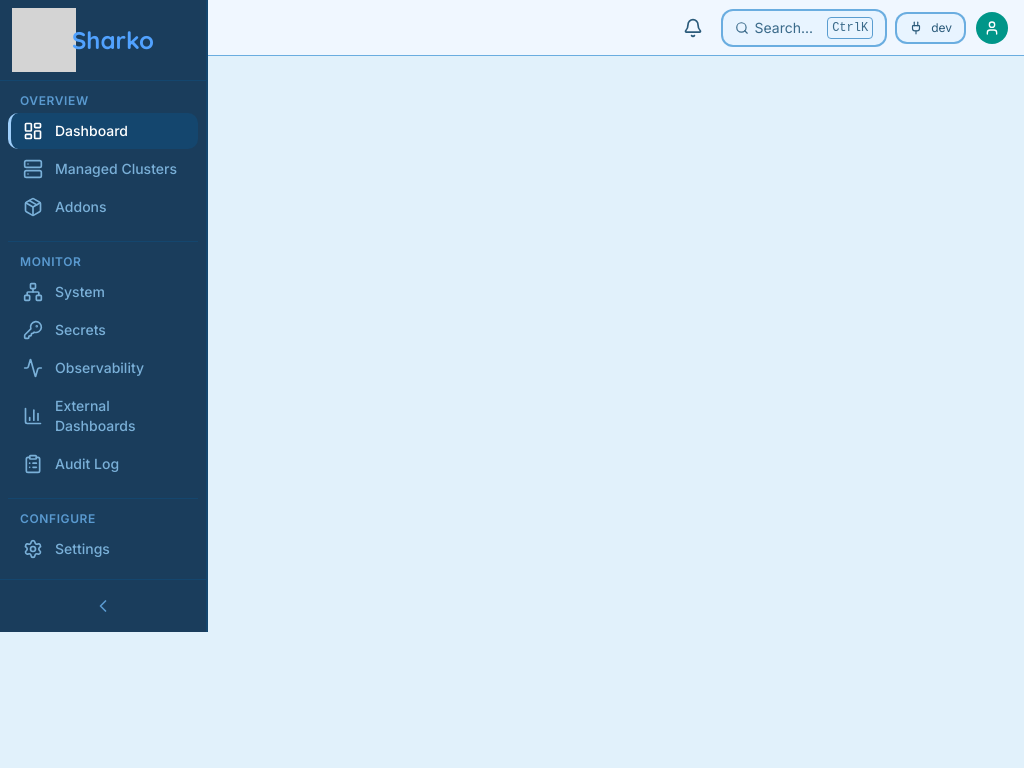
Test: Layout › user avatar menu › closes on Escape
Step 1. Click the button named "User menu" → {"x": 992, "y": 28}, box [976,12,1008,44]
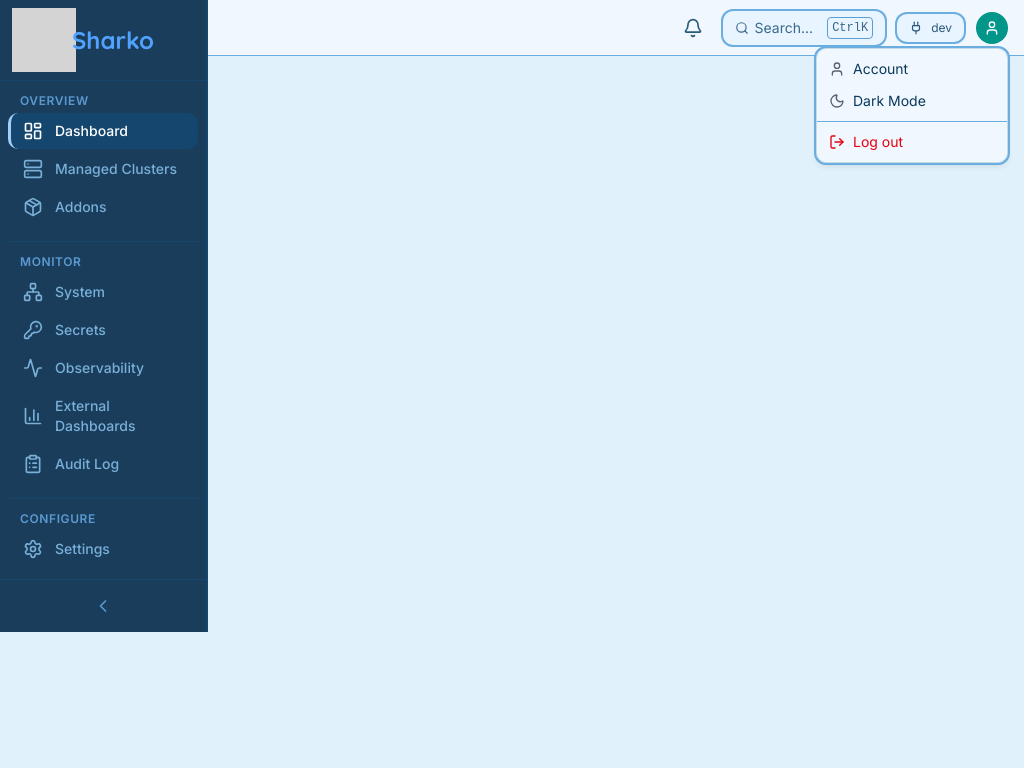
Expected: the menu item "Log out" is shown, [829,133,903,150]
Step 2. Press Escape
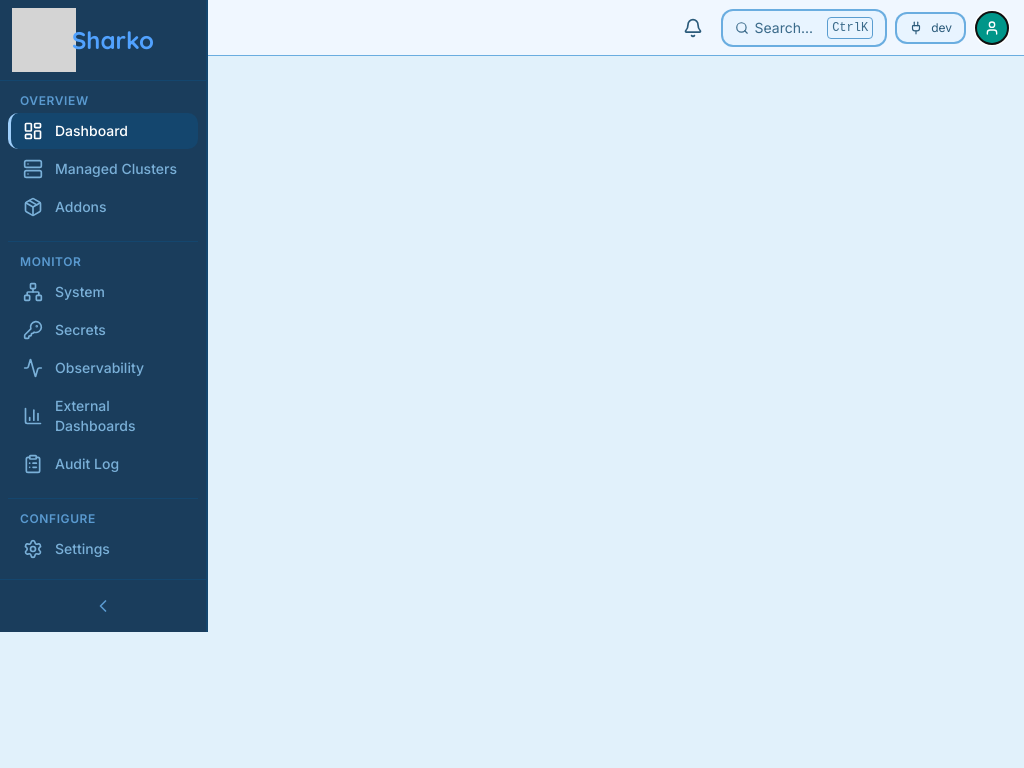
Expected: the menu item "Log out" is gone
